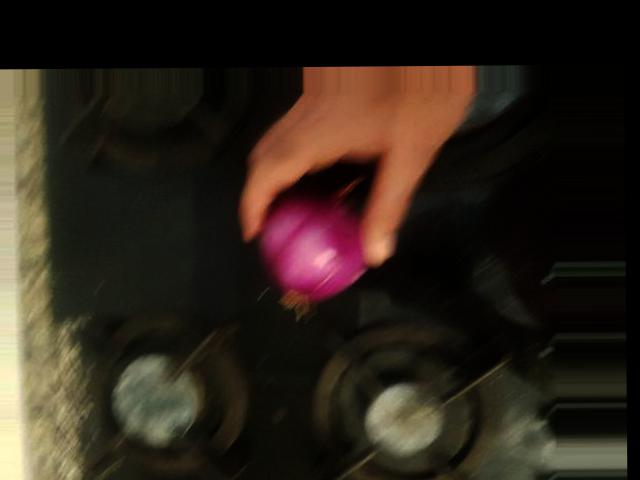onion: (251, 180, 372, 301)
